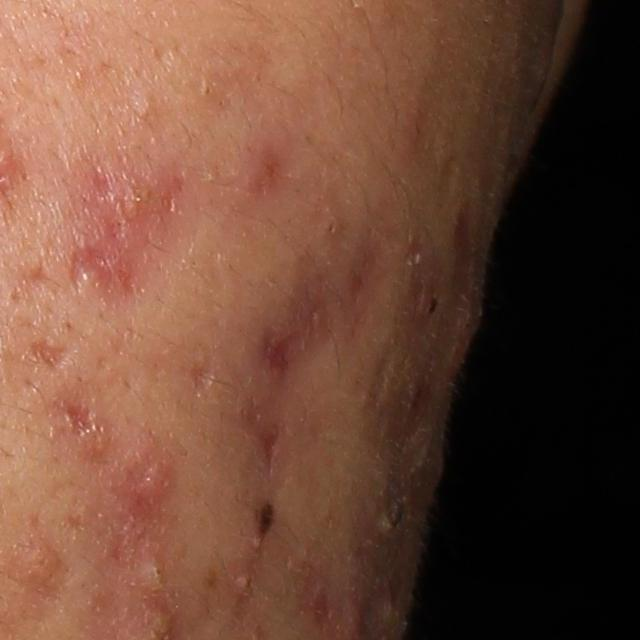atrophic_scar: (252, 196, 385, 484), (51, 385, 109, 451), (25, 330, 86, 367), (174, 352, 219, 395)
comedo: (133, 96, 158, 119)
nevus: (256, 501, 278, 545)
papule: (128, 455, 168, 520), (12, 538, 69, 583), (457, 280, 485, 361)
pustule: (365, 486, 413, 554), (128, 541, 174, 598), (230, 569, 255, 591)
